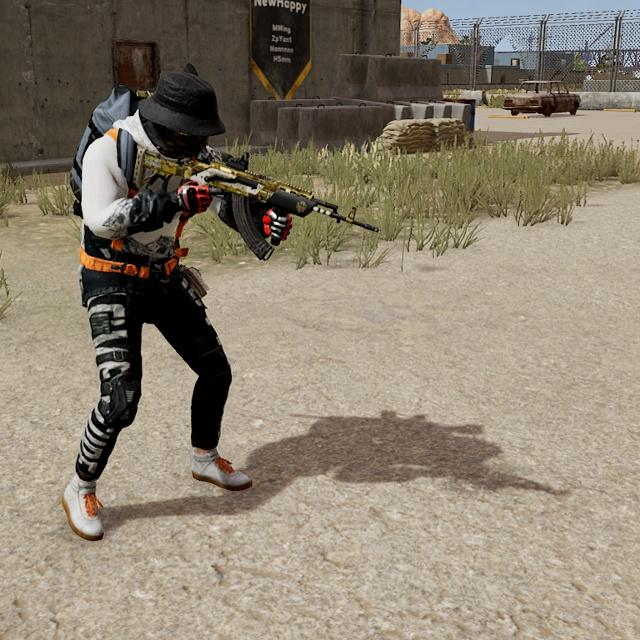head: (140, 60, 227, 166)
people: (43, 50, 275, 547)
